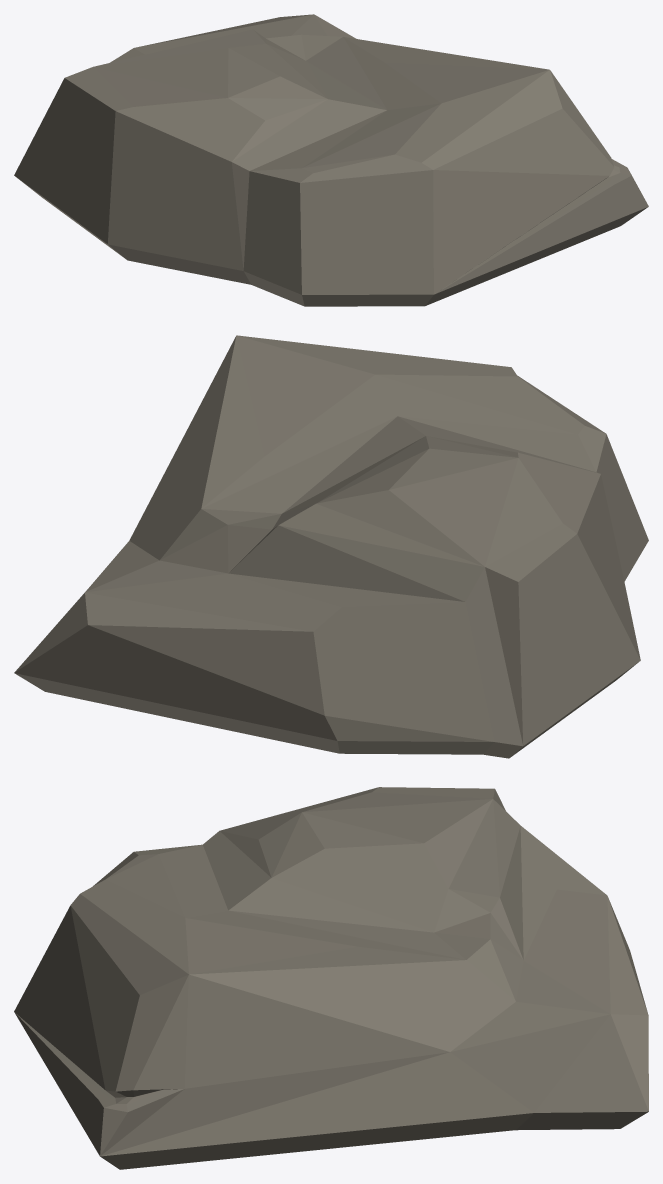
Rendered from rock__rock7_cave_light.glb.
The picture shows the model from 3 angles, top to bottom: view 1: azimuth 30°, elevation 25°; view 2: azimuth 150°, elevation 25°; view 3: azimuth 270°, elevation 25°; orthographic projection. The views are drawn at different scales.
Visible parts, largest first — view 1: rock7.cave.light; view 2: rock7.cave.light; view 3: rock7.cave.light.
Part boxes in pixels (x1,y1,x2,y2): rock7.cave.light: (14,14,648,306); rock7.cave.light: (14,335,648,758); rock7.cave.light: (14,787,648,1169).
Size of the model in its own units: 3.3 by 1.06 by 3.46.
Materials: 1 (1 with a texture image).
